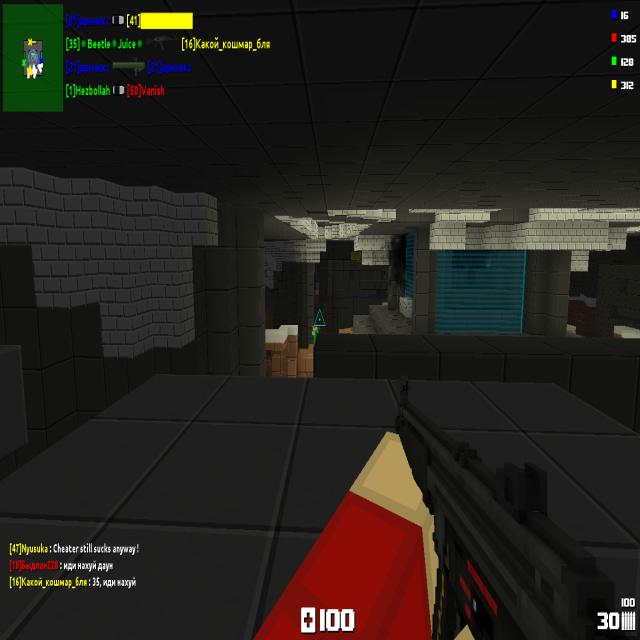enemy: (312, 323, 320, 346)
